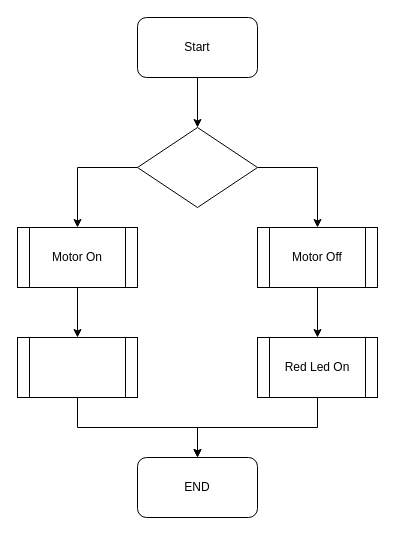
The diagram is 395 pixels wide and 535 high, and some of its shapes have lost their labels. The centre of each missing label's shape, as x and y in pixels:
"Green Led On" goes at [77,367].
"RA3 = 1?" goes at [197,167].
